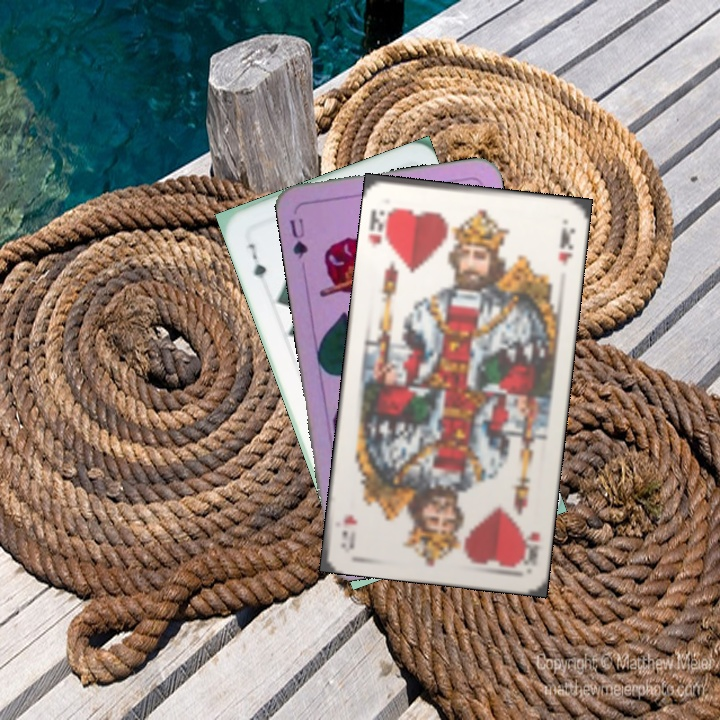G7: (244, 239, 269, 282)
GU: (285, 214, 310, 261)
HK: (365, 204, 395, 248), (514, 528, 543, 568)
